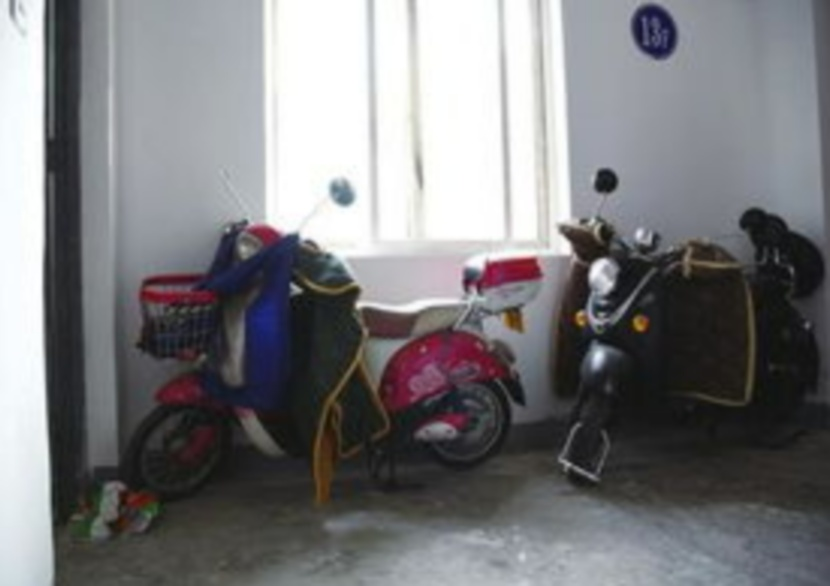ebike: (135, 170, 547, 480), (565, 161, 825, 445)
